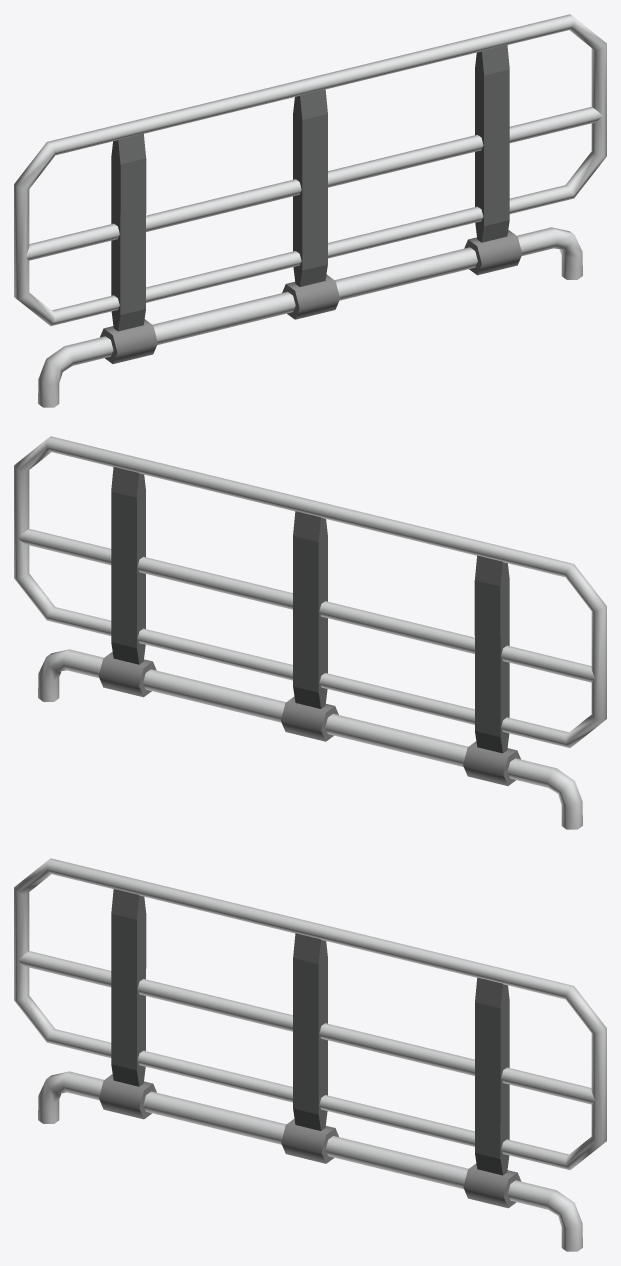
File: Fence_type_A_002.glb
The picture shows the model from 3 angles, top to bottom: view 1: azimuth 30°, elevation 25°; view 2: azimuth 150°, elevation 25°; view 3: azimuth 330°, elevation 25°; orthographic projection.
Visible parts, largest first — view 1: Fence_type_A_002; view 2: Fence_type_A_002; view 3: Fence_type_A_002.
Boxes of the visible parts, x1,y1,x2,y2 form: Fence_type_A_002: (14, 14, 606, 407); Fence_type_A_002: (14, 436, 606, 829); Fence_type_A_002: (14, 858, 606, 1251).
Size of the model in its own units: 3.37 by 1.42 by 0.1839.
1 material, 1 textured.
